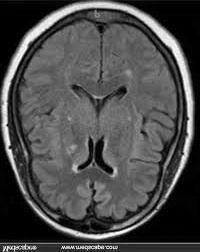Normal_Brain: (1, 2, 200, 251)
